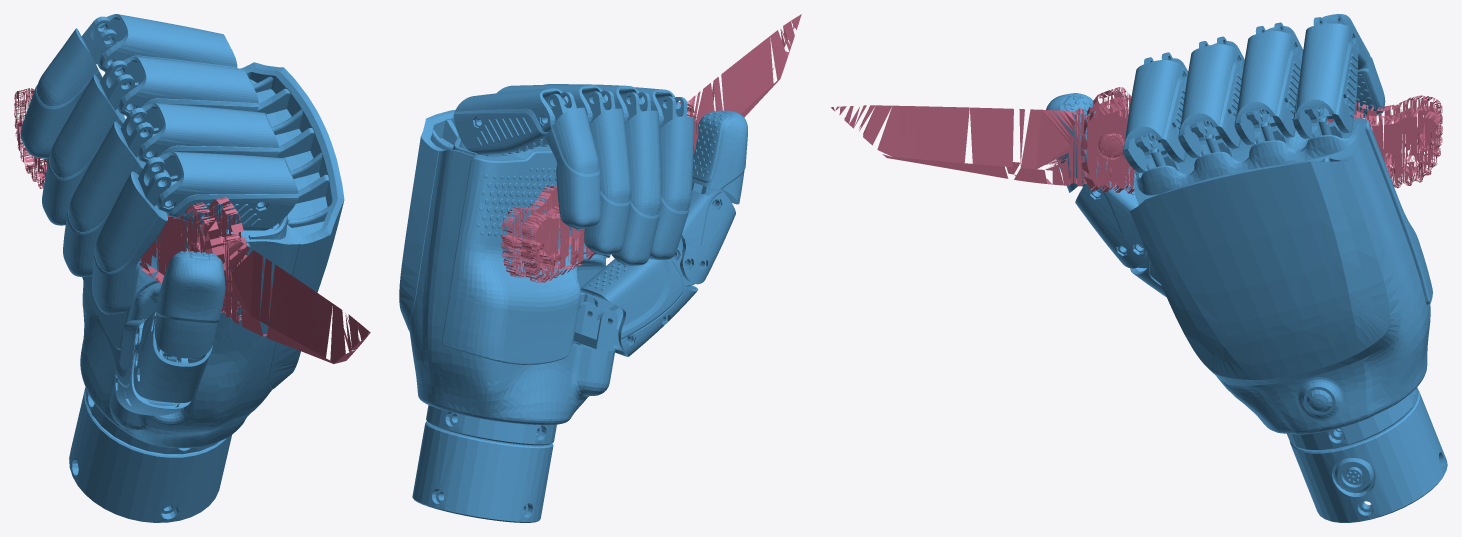
The picture shows the model from 3 angles, left to right: view 1: azimuth 30°, elevation 25°; view 2: azimuth 150°, elevation 25°; view 3: azimuth 270°, elevation 25°; orthographic projection. The views are drawn at different scales.
Parts seen in each view (by area): view 1: 0; view 2: 0; view 3: 0.
Part boxes in pixels (bbox=[...]): 0: bbox=[14, 14, 370, 522]; 0: bbox=[399, 14, 801, 522]; 0: bbox=[831, 14, 1447, 522].
Size of the model in its own units: 0.0933 by 0.1835 by 0.2216.
